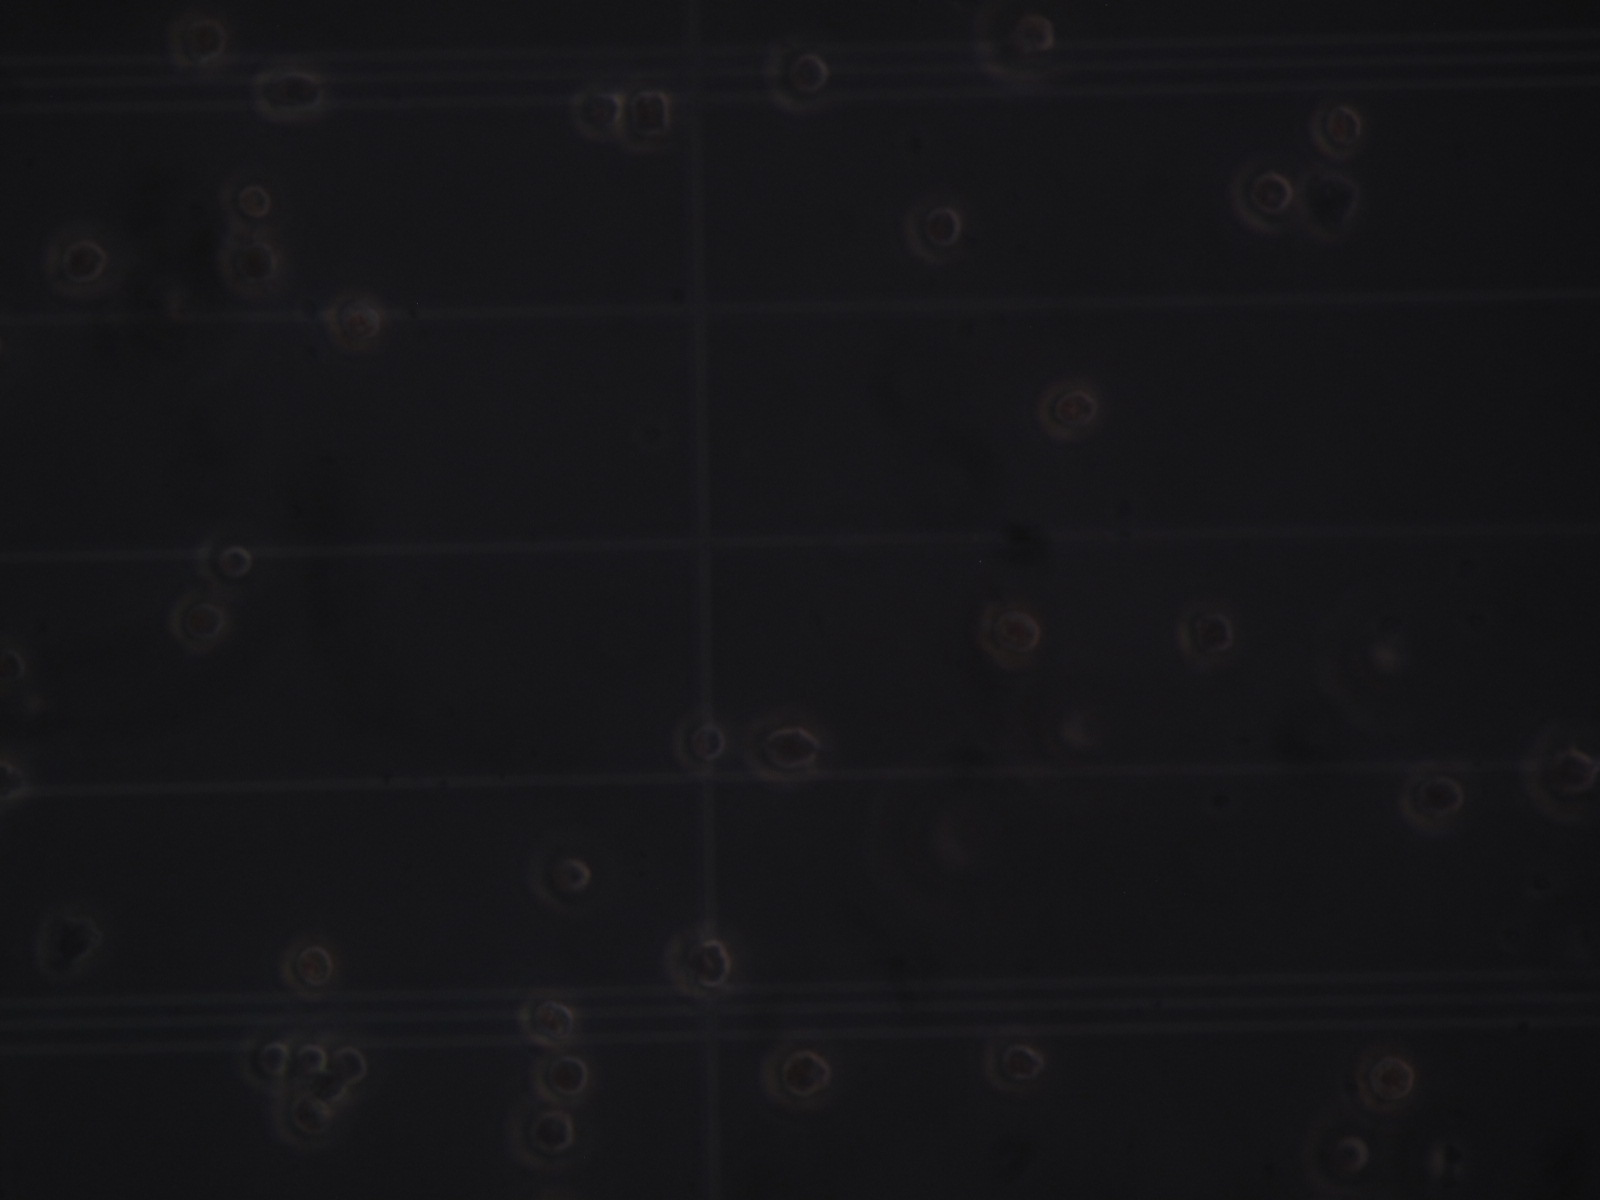hemo: (1519, 725, 1599, 823), (973, 1, 1056, 88), (1303, 1116, 1369, 1197), (743, 716, 820, 784), (1294, 166, 1361, 243), (762, 42, 830, 113), (760, 1042, 831, 1111), (663, 929, 731, 1000), (505, 1102, 574, 1170), (1231, 161, 1294, 233), (1398, 766, 1465, 832), (528, 845, 592, 913), (45, 232, 108, 297), (978, 605, 1041, 669), (1354, 1049, 1416, 1113), (902, 199, 963, 265), (252, 68, 326, 121), (195, 529, 253, 595), (619, 84, 673, 153), (323, 294, 383, 353), (1177, 605, 1235, 667), (671, 712, 727, 776), (1038, 383, 1099, 441), (218, 236, 278, 294), (983, 1037, 1044, 1094), (278, 939, 334, 1001), (275, 1093, 333, 1150), (169, 594, 226, 652), (168, 15, 228, 69), (219, 174, 273, 234), (517, 993, 576, 1047), (532, 1053, 590, 1104), (238, 1032, 289, 1092), (1310, 102, 1362, 159), (571, 88, 622, 140), (325, 1032, 369, 1090), (290, 1034, 328, 1087), (1, 642, 26, 691), (1, 755, 23, 804)
